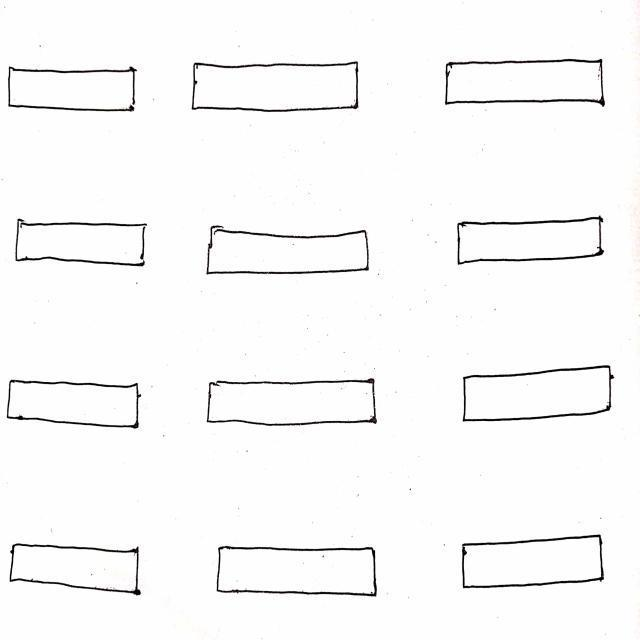textbox: (443, 506, 626, 619), (215, 522, 390, 622), (197, 209, 384, 293), (443, 359, 628, 443), (183, 50, 367, 130), (434, 40, 618, 116), (440, 211, 629, 283), (1, 52, 151, 140), (8, 530, 154, 614), (4, 364, 154, 444), (211, 375, 410, 434), (13, 209, 157, 286)
